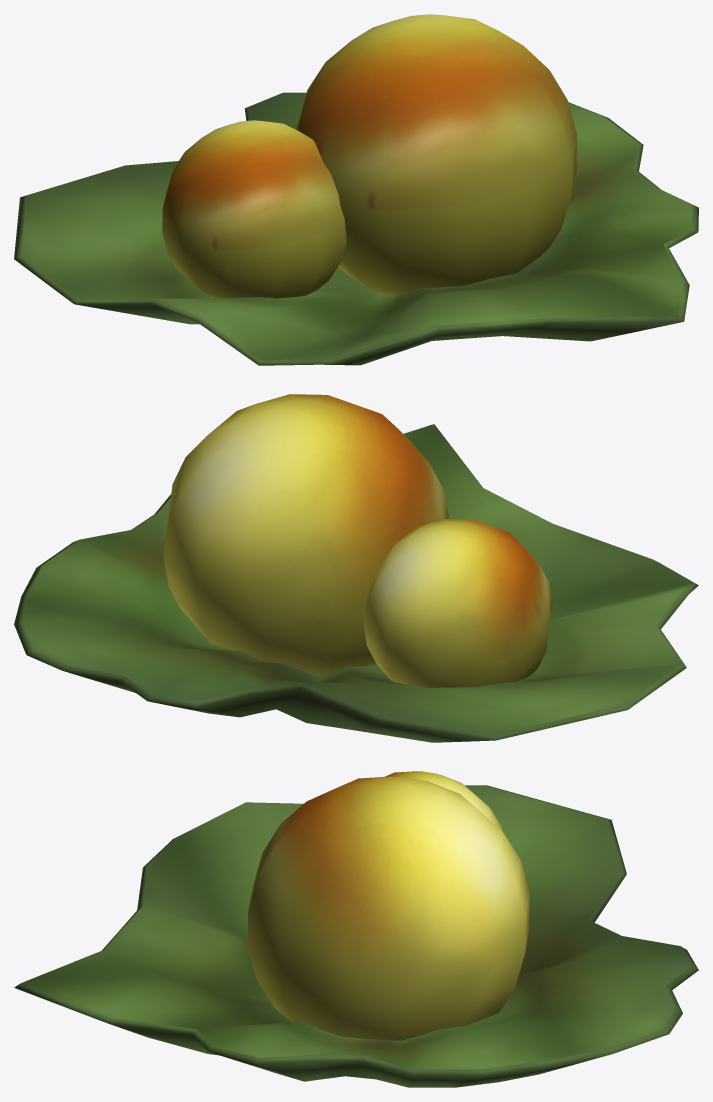
Rendered from yaoping2.FBX.
3 views of the same model, one above another, from view 1: azimuth 30°, elevation 25°; view 2: azimuth 150°, elevation 25°; view 3: azimuth 270°, elevation 25° (orthographic).
Parts seen in each view (by area): view 1: yaoping2; view 2: yaoping2; view 3: yaoping2.
Part boxes in pixels (left/top/right/bottom): yaoping2: left=14, top=14, right=698, bottom=365; yaoping2: left=14, top=394, right=698, bottom=742; yaoping2: left=14, top=771, right=698, bottom=1087.
Bounding box in the file's own units: 34.39 × 15.56 × 34.67.
1 material, 1 textured.
